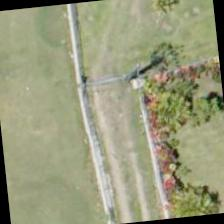Kelapa_Sawit: (143, 163, 223, 221)
